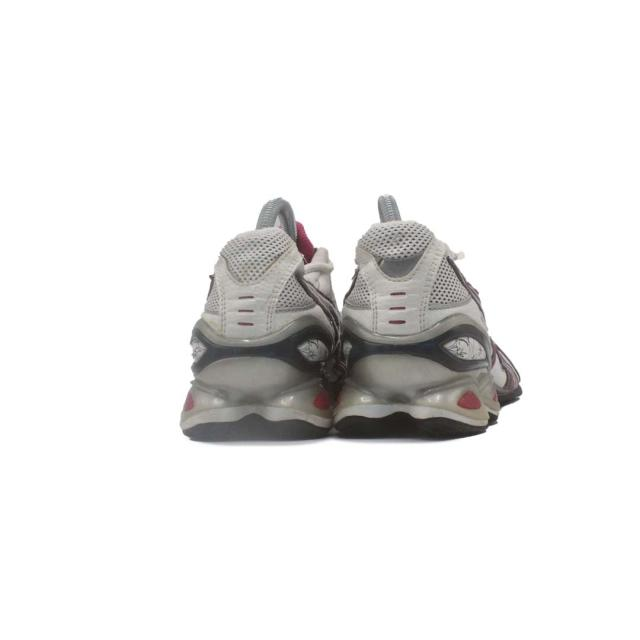heel: (328, 187, 486, 332), (185, 205, 321, 337)
midsole: (169, 324, 521, 436)
